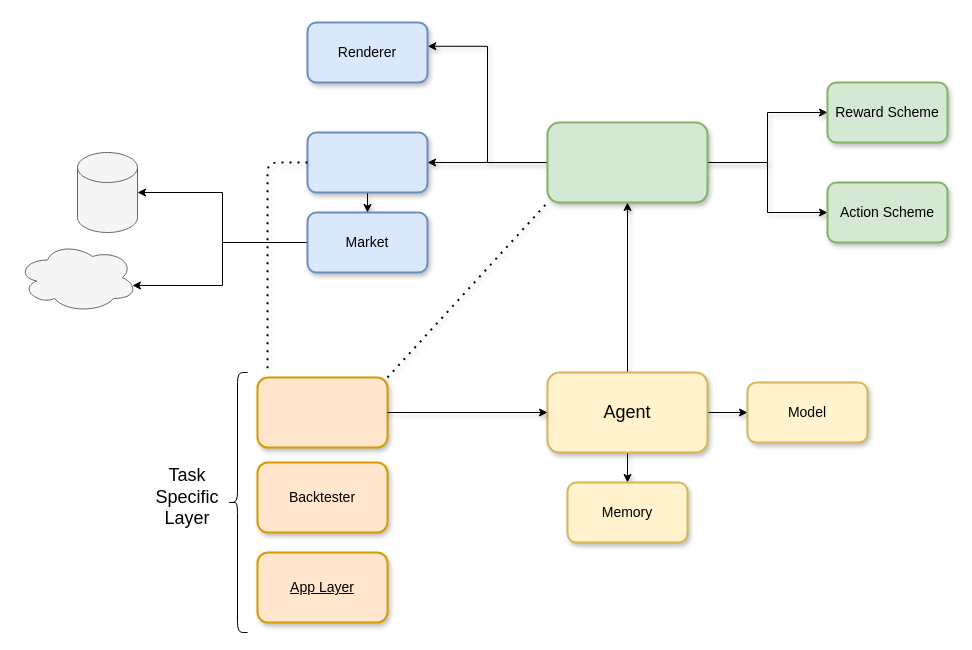
The diagram is 972 pixels wide and 650 high, and some of its shapes have lost their labels. The shapes that lost their labels are listed below. From the top down, each one's centre as x and y in pixels, then its label:
At [368,163]: "Dataset".
At [628,163]: "Environment".
At [107,192]: "Local".
At [77,277]: "API".
At [323,413]: "Trainer".
